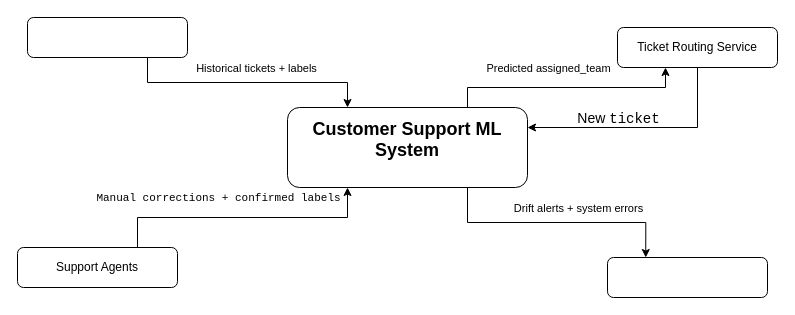
This 795x315 diagram has some shape labels left out. The box of each missing label's shape, as (x1, y1, x2, y2) in pixels:
Support Ticket Dataset (Hugging Face): (26, 16, 188, 58)
System Administrator: (606, 256, 768, 298)
